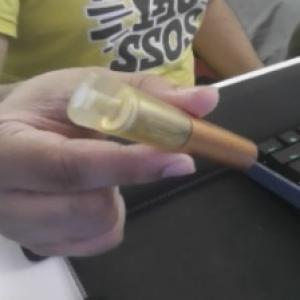Golden-E-Ciggirate: (65, 64, 262, 172)
